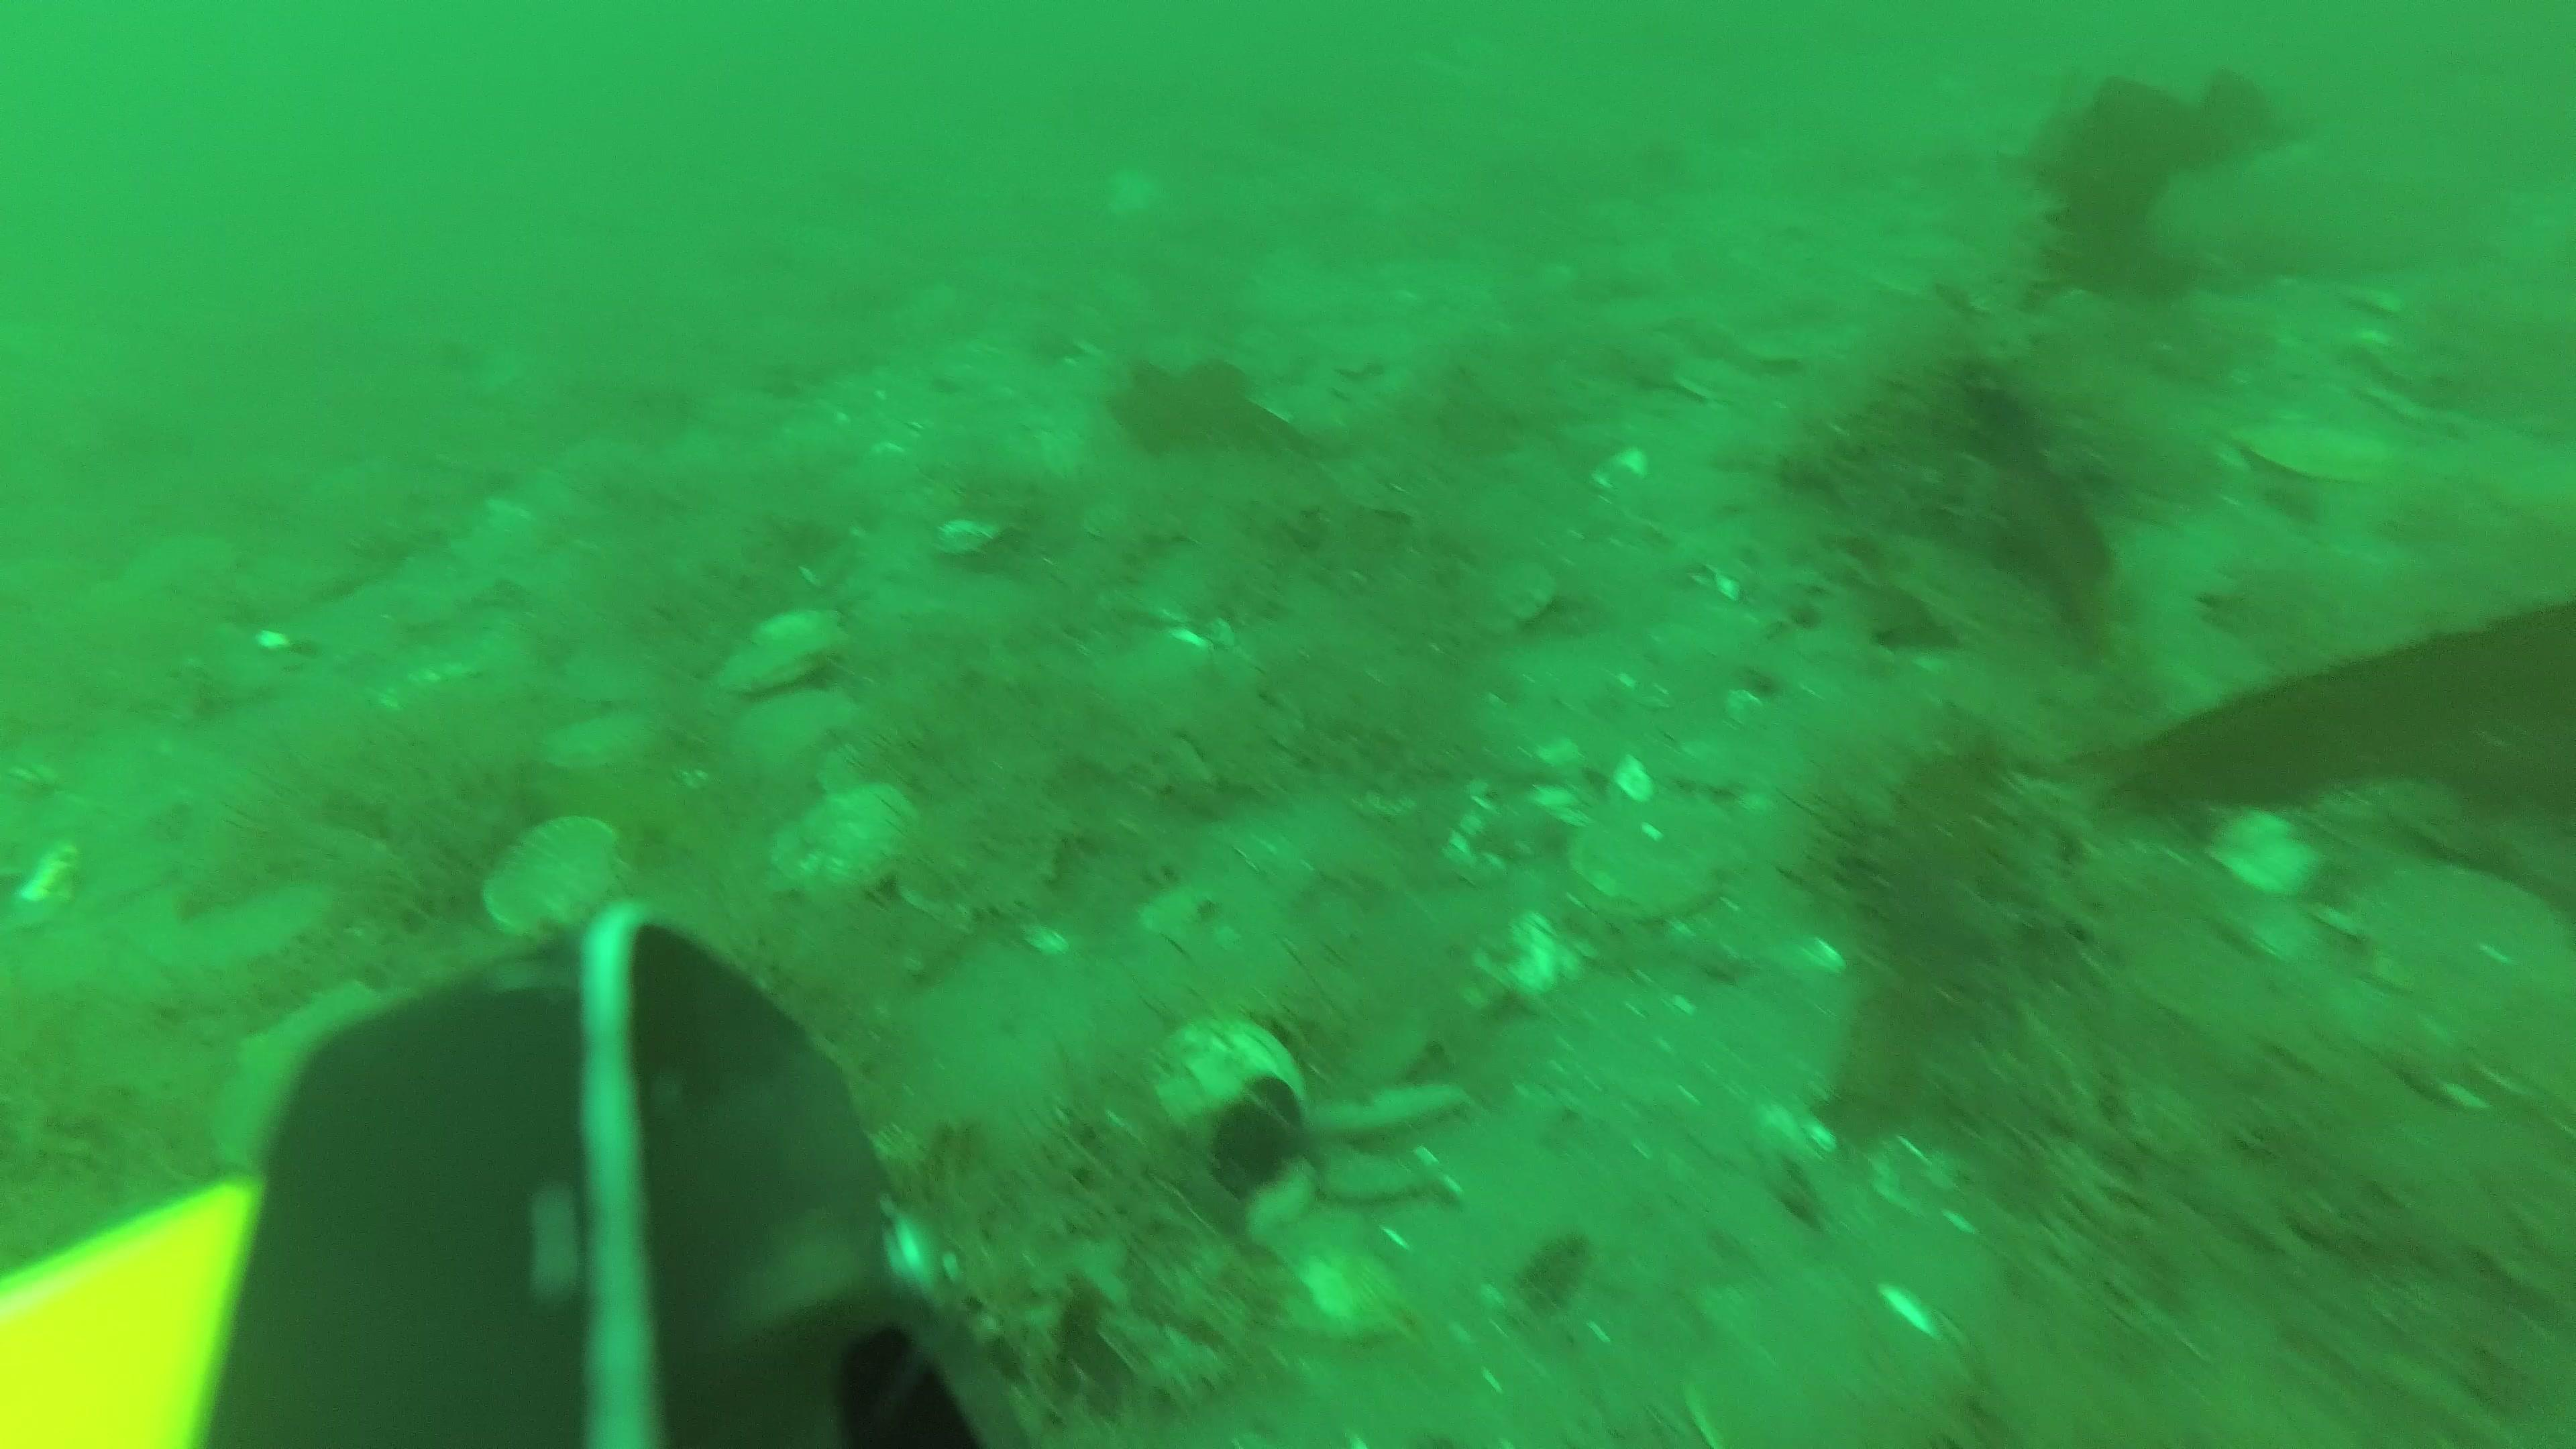scallop: (1679, 1254, 1960, 1449), (2364, 849, 2576, 1010), (1152, 1010, 1306, 1150), (771, 778, 929, 902), (485, 812, 637, 934), (1571, 796, 1706, 920), (2233, 412, 2392, 494), (722, 603, 849, 697), (738, 694, 870, 780)
